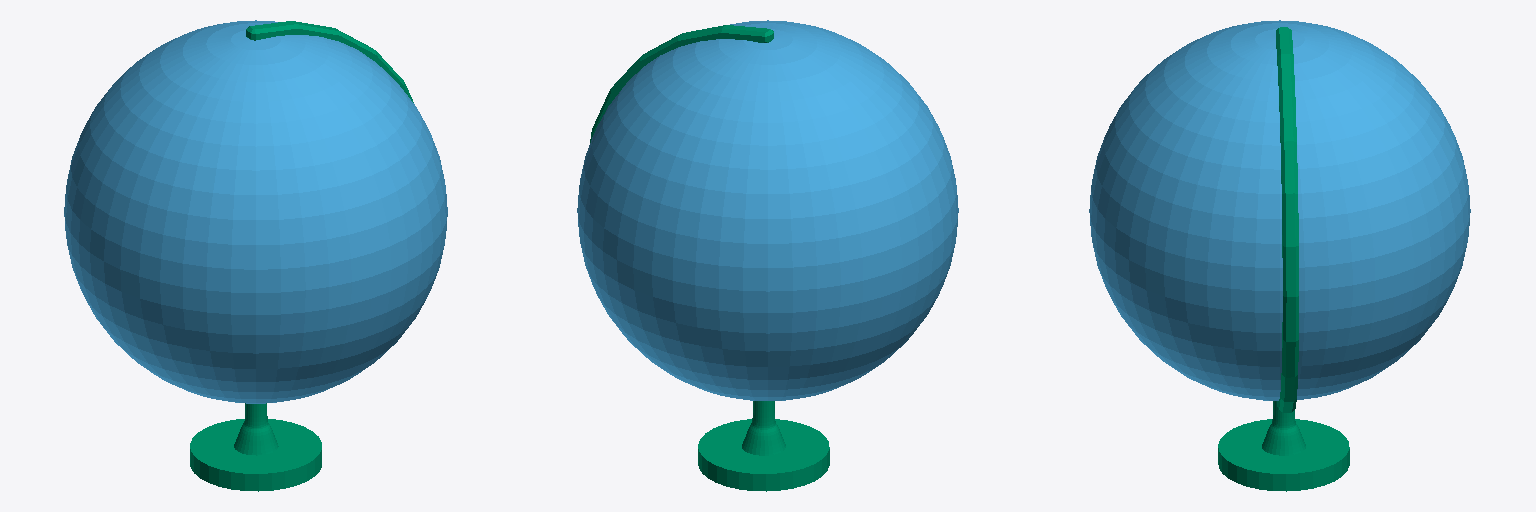
robot.urdf — partnet_588d0d66-e5c6-40aa-ba9d-6b34085c60a8:
<?xml version='1.0' encoding='utf-8'?>
<robot name="partnet_588d0d66-e5c6-40aa-ba9d-6b34085c60a8">
	<link name="base" />
	<link name="link_0">
		<visual name="sphere-1">
			<origin xyz="0.012146194794789206 0 -0.008527805205210792" />
			<geometry>
				<mesh filename="textured_objs/original-8.obj" />
			</geometry>
		</visual>
		<collision>
			<origin xyz="0.012146194794789206 0 -0.008527805205210792" />
			<geometry>
				<mesh filename="textured_objs/original-8.obj" />
			</geometry>
		</collision>
	</link>
	<joint name="joint_0" type="continuous">
		<origin xyz="-0.012146194794789206 0 0.008527805205210792" />
		<axis xyz="0 1 0" />
		<child link="link_0" />
		<parent link="link_1" />
	</joint>
	<link name="link_1">
		<visual name="base_body-2">
			<origin xyz="0 0 0" />
			<geometry>
				<mesh filename="textured_objs/original-4.obj" />
			</geometry>
		</visual>
		<visual name="base_body-2">
			<origin xyz="0 0 0" />
			<geometry>
				<mesh filename="textured_objs/original-2.obj" />
			</geometry>
		</visual>
		<visual name="base_body-2">
			<origin xyz="0 0 0" />
			<geometry>
				<mesh filename="textured_objs/original-5.obj" />
			</geometry>
		</visual>
		<visual name="base_body-2">
			<origin xyz="0 0 0" />
			<geometry>
				<mesh filename="textured_objs/original-6.obj" />
			</geometry>
		</visual>
		<visual name="base_body-2">
			<origin xyz="0 0 0" />
			<geometry>
				<mesh filename="textured_objs/original-7.obj" />
			</geometry>
		</visual>
		<collision>
			<origin xyz="0 0 0" />
			<geometry>
				<mesh filename="textured_objs/original-4.obj" />
			</geometry>
		</collision>
		<collision>
			<origin xyz="0 0 0" />
			<geometry>
				<mesh filename="textured_objs/original-2.obj" />
			</geometry>
		</collision>
		<collision>
			<origin xyz="0 0 0" />
			<geometry>
				<mesh filename="textured_objs/original-5.obj" />
			</geometry>
		</collision>
		<collision>
			<origin xyz="0 0 0" />
			<geometry>
				<mesh filename="textured_objs/original-6.obj" />
			</geometry>
		</collision>
		<collision>
			<origin xyz="0 0 0" />
			<geometry>
				<mesh filename="textured_objs/original-7.obj" />
			</geometry>
		</collision>
	</link>
	<joint name="joint_1" type="fixed">
		<origin rpy="1.570796326794897 0 -1.570796326794897" xyz="0 0 0" />
		<child link="link_1" />
		<parent link="base" />
	</joint>
</robot>

--- What the picture shows (computed from the rendered views, not written in the file) ---
The picture shows the robot from 3 angles, left to right: view 1: azimuth 30°, elevation 25°; view 2: azimuth 150°, elevation 25°; view 3: azimuth 270°, elevation 25°; orthographic projection.
Robot: partnet_588d0d66-e5c6-40aa-ba9d-6b34085c60a8 — 3 links, 2 joints (1 continuous, 1 fixed); root link base; default pose: all joints at 0.
Visible links, largest first — view 1: link_0, link_1; view 2: link_0, link_1; view 3: link_0, link_1.
Boxes of the visible links, bbox=[...] form: link_0: bbox=[64, 20, 447, 403]; link_1: bbox=[190, 21, 413, 491]; link_0: bbox=[577, 20, 958, 400]; link_1: bbox=[590, 25, 829, 491]; link_0: bbox=[1089, 20, 1470, 400]; link_1: bbox=[1218, 27, 1349, 491].
Size in the robot's own frame: 1.45 by 1.41 by 1.77 metres.
6 mesh visuals loaded from 6 distinct referenced files (6 OBJ).